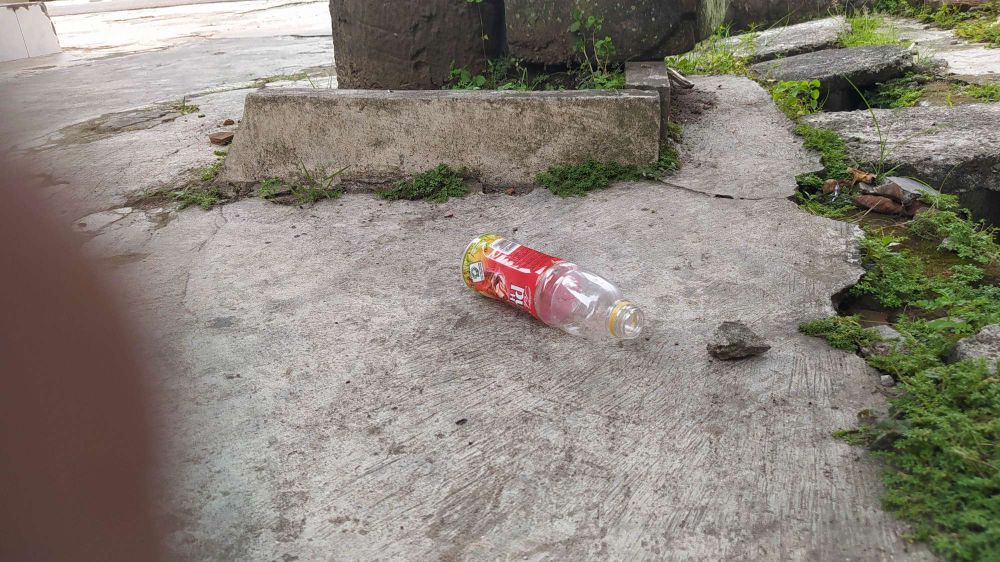botol: (422, 209, 663, 365)
